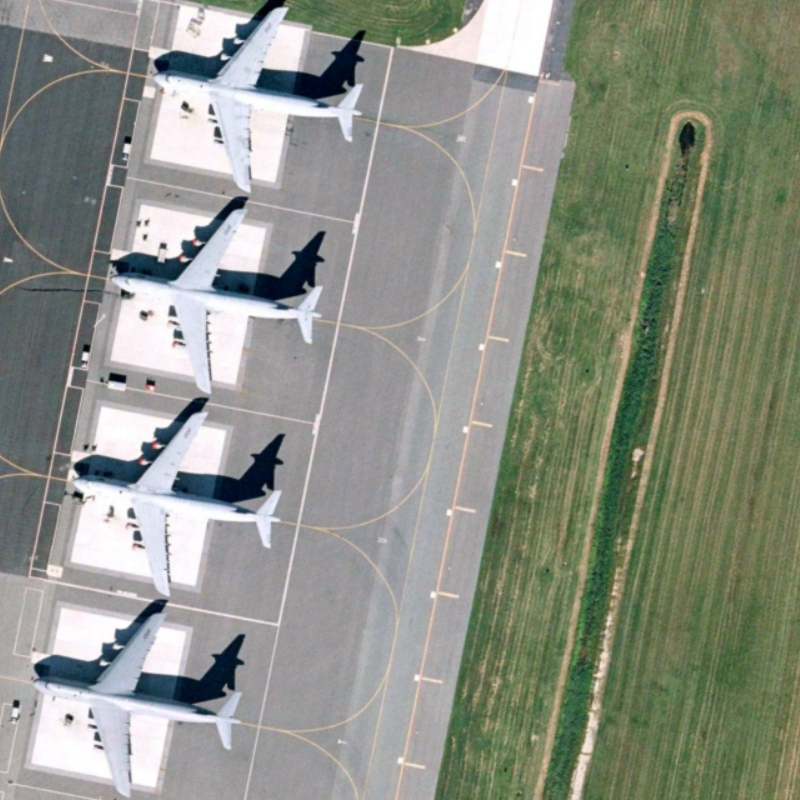A4: (63, 401, 286, 603), (105, 202, 326, 404), (142, 3, 368, 199), (23, 606, 248, 799)
